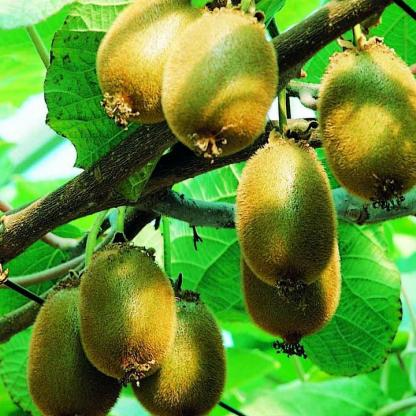--: (90, 0, 288, 161), (318, 42, 416, 208), (238, 135, 336, 287), (82, 238, 177, 383)
